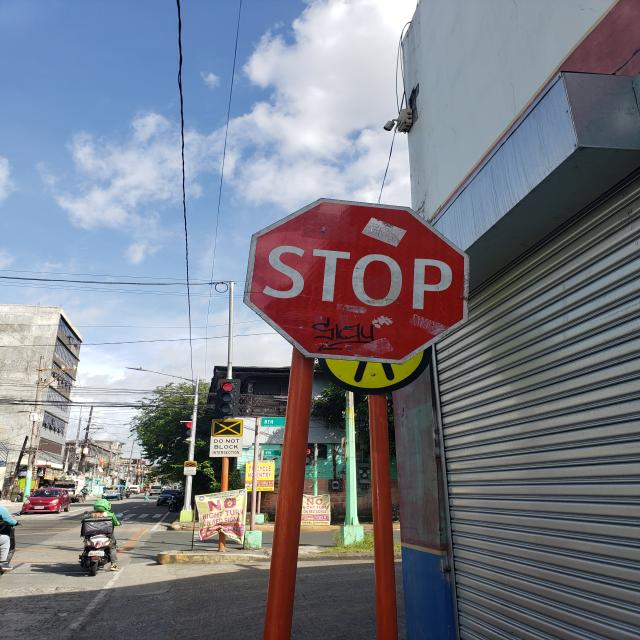stop-sign: (243, 197, 470, 364)
